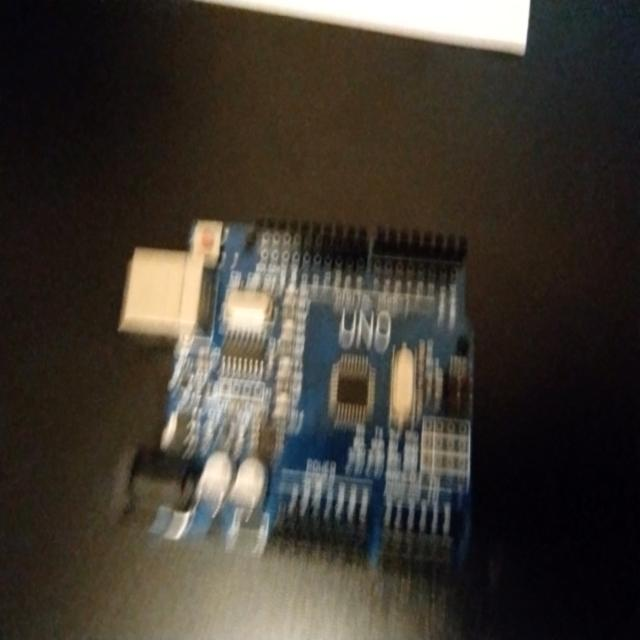arduino: (121, 199, 487, 592)
